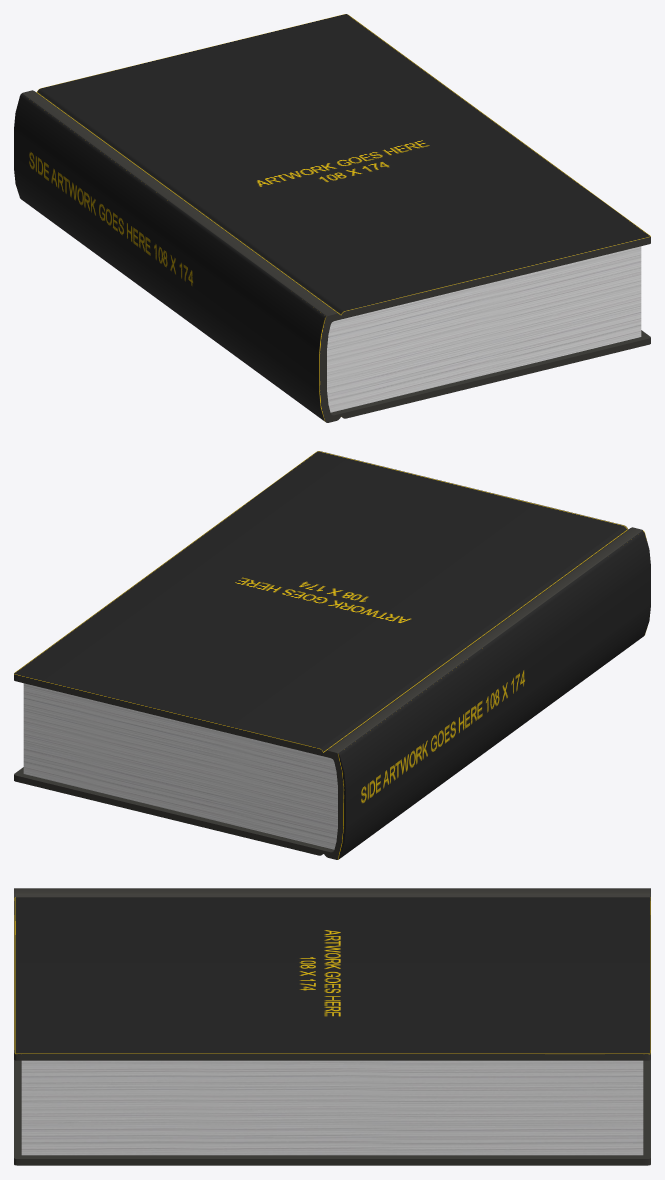
File: Book_XS.gltf
The picture shows the model from 3 angles, top to bottom: view 1: azimuth 30°, elevation 25°; view 2: azimuth 150°, elevation 25°; view 3: azimuth 270°, elevation 25°; orthographic projection. The views are drawn at different scales.
Visible parts, largest first — view 1: Book_108x175; view 2: Book_108x175; view 3: Book_108x175.
Part boxes in pixels (box(x1,y1,x2,y2)): Book_108x175: box(14, 14, 650, 422); Book_108x175: box(14, 451, 650, 859); Book_108x175: box(14, 888, 650, 1165).
Size of the model in its own units: 0.113 by 0.0347 by 0.1793.
Materials: 4 (4 with a texture image).
